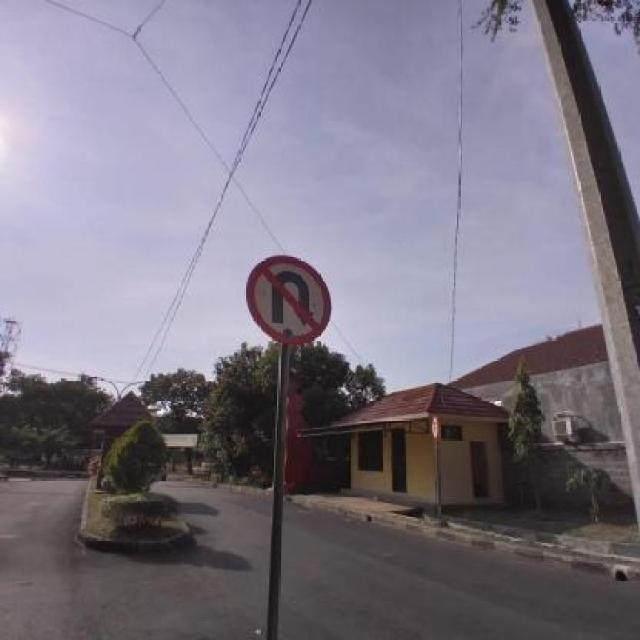u turn prohibited: (242, 251, 337, 350)
